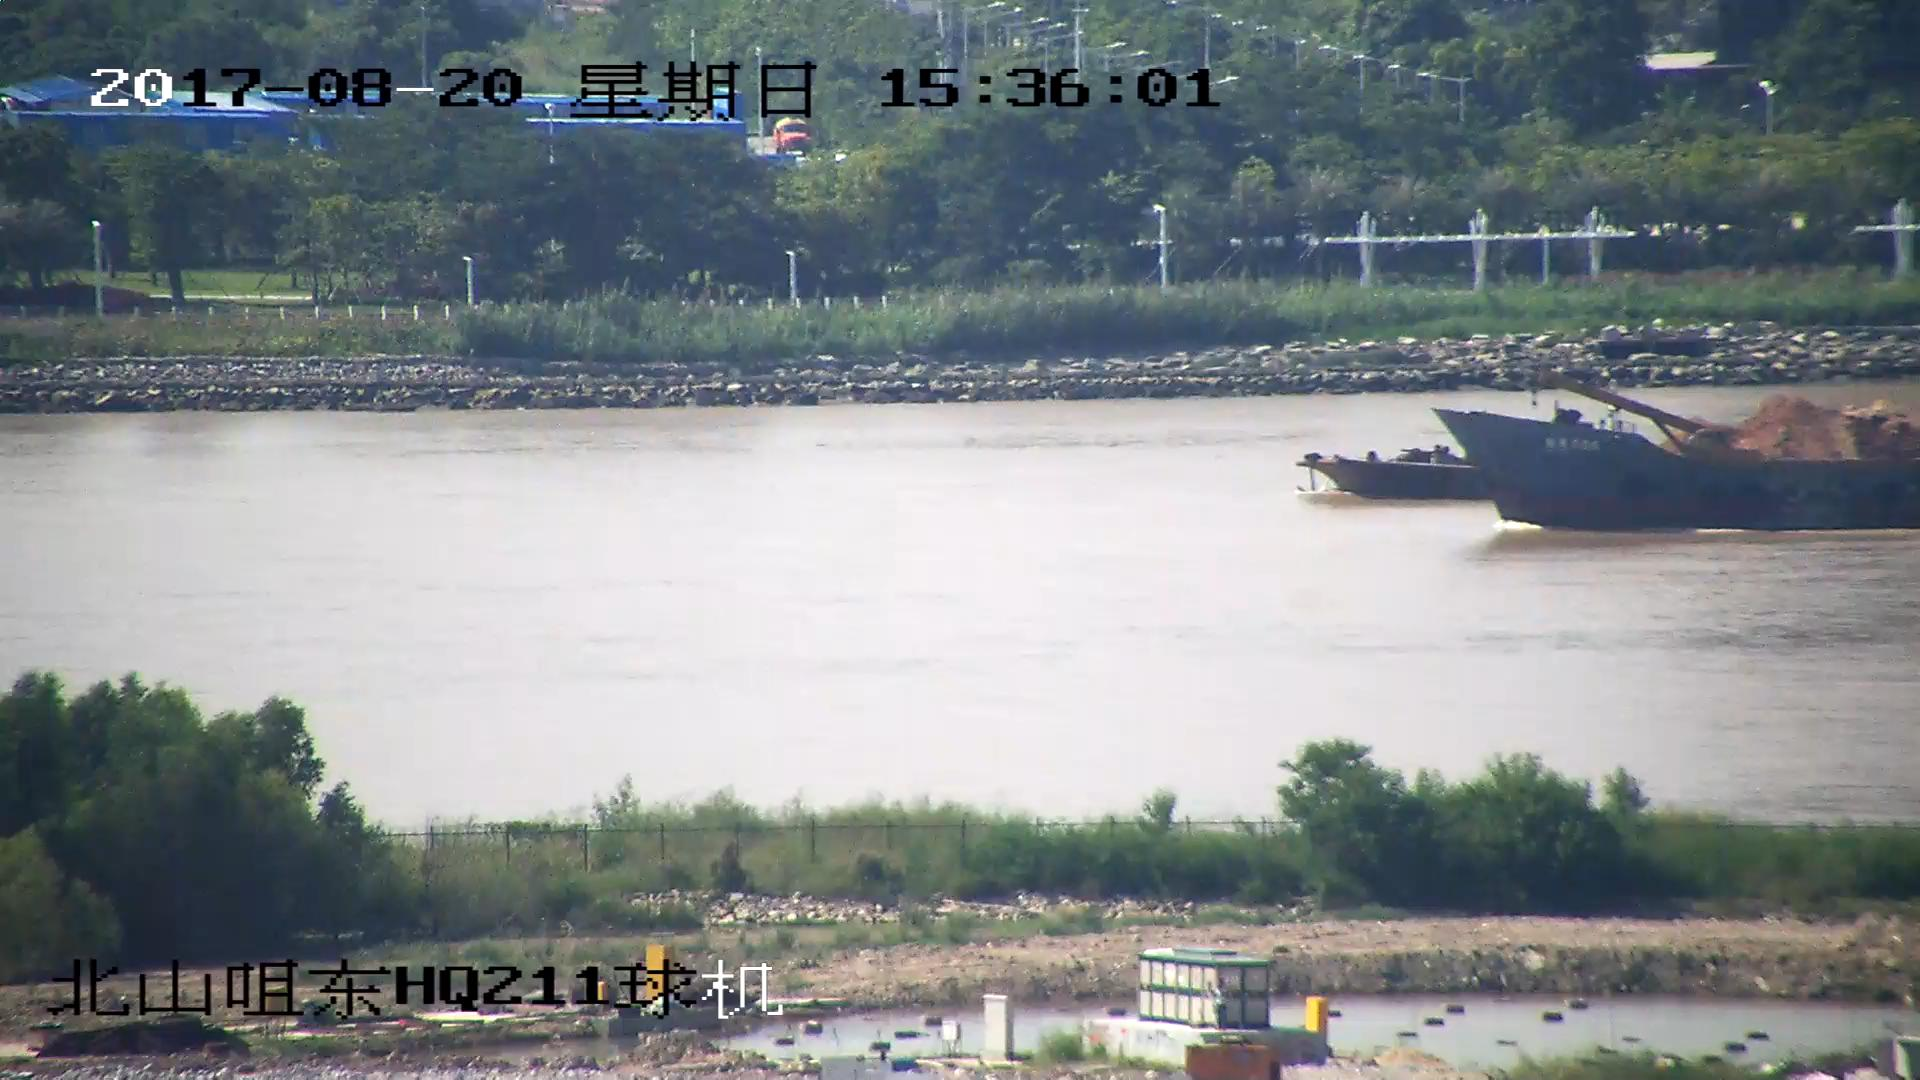general cargo ship: (1438, 397, 1920, 529)
ore carrier: (1301, 395, 1920, 503)
